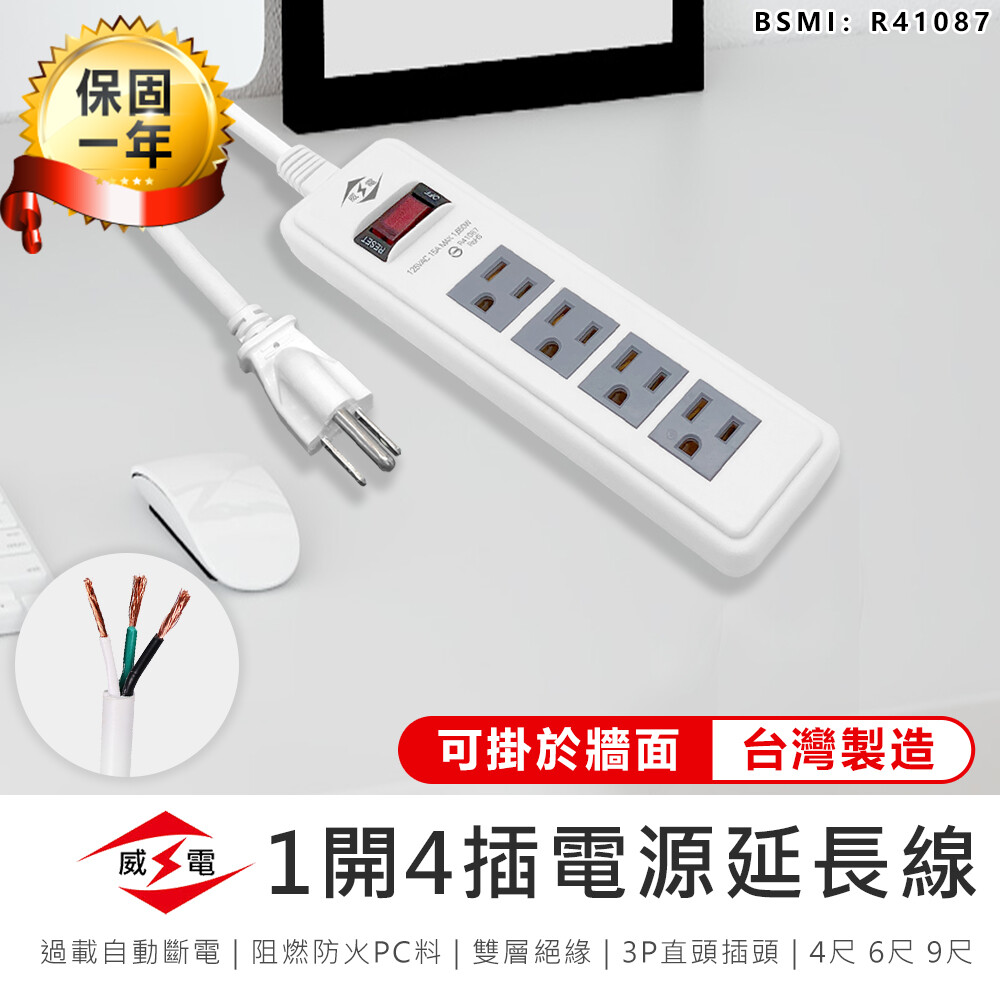socket: (273, 137, 839, 578)
